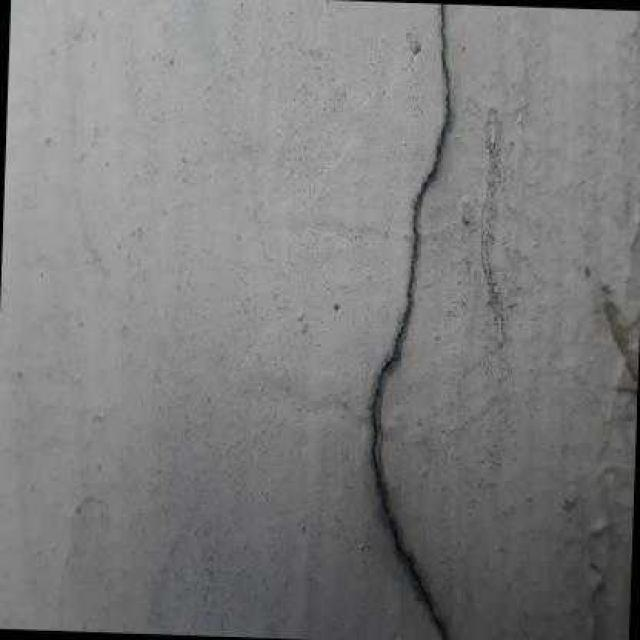D00: (372, 4, 451, 640)
